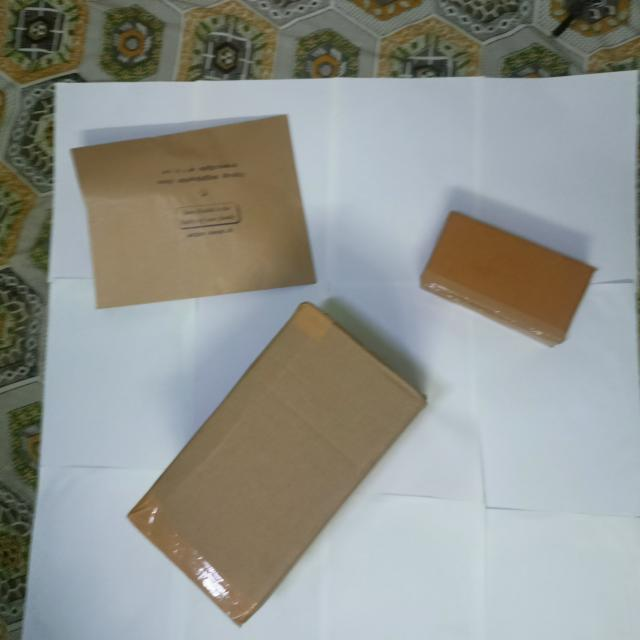box: (126, 304, 428, 629), (72, 117, 317, 307), (419, 208, 597, 351)
